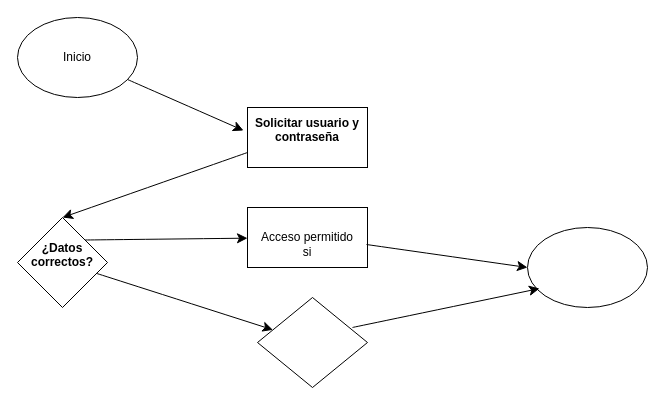
This 665x405 diagram has some shape labels left out. Each missing label, with the centre of its shape:
"Acceso denegado no" belongs at [312,342].
"Salir" belongs at [587,267].
